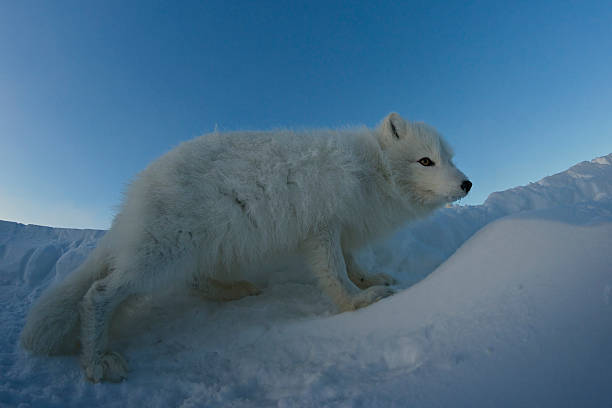arcticfox: (392, 129, 485, 211)
